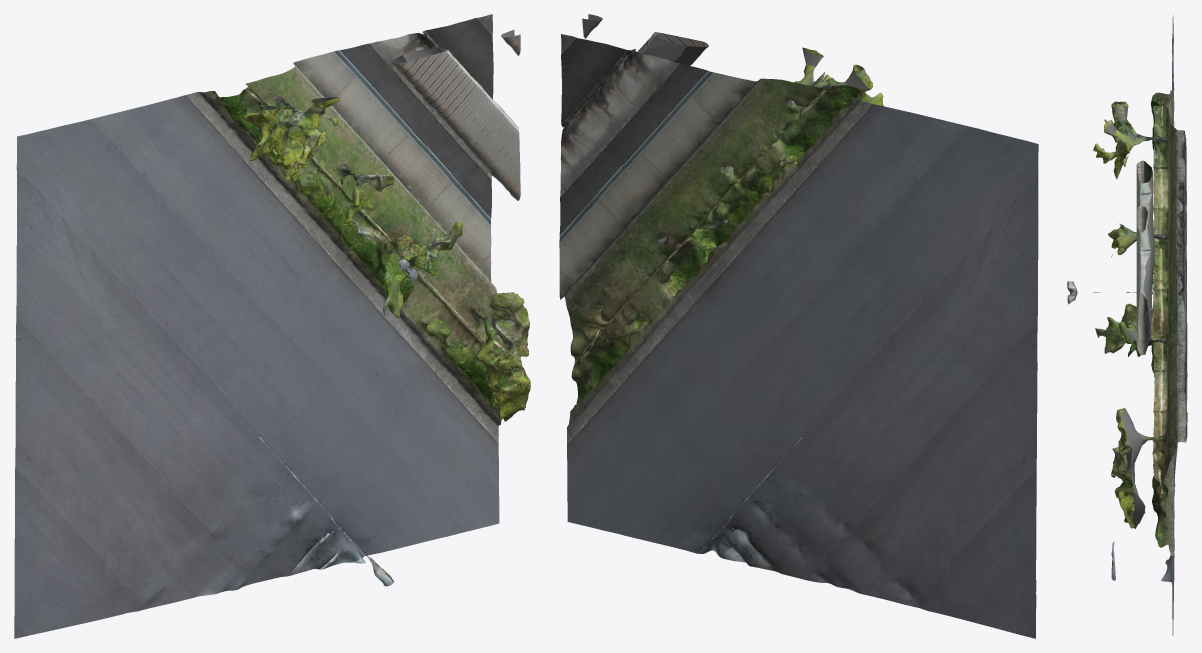
Rendered from Tile_+017_+022.fbx.
The picture shows the model from 3 angles, left to right: view 1: azimuth 30°, elevation 25°; view 2: azimuth 150°, elevation 25°; view 3: azimuth 270°, elevation 25°; orthographic projection. The views are drawn at different scales.
Parts seen in each view (by area): view 1: DefaultName; view 2: DefaultName; view 3: DefaultName.
Part boxes in pixels (bbox=[...]): DefaultName: bbox=[14, 14, 530, 638]; DefaultName: bbox=[559, 14, 1038, 638]; DefaultName: bbox=[1067, 15, 1187, 635].
Size of the model in its own units: 22.54 by 22.54 by 5.79.
